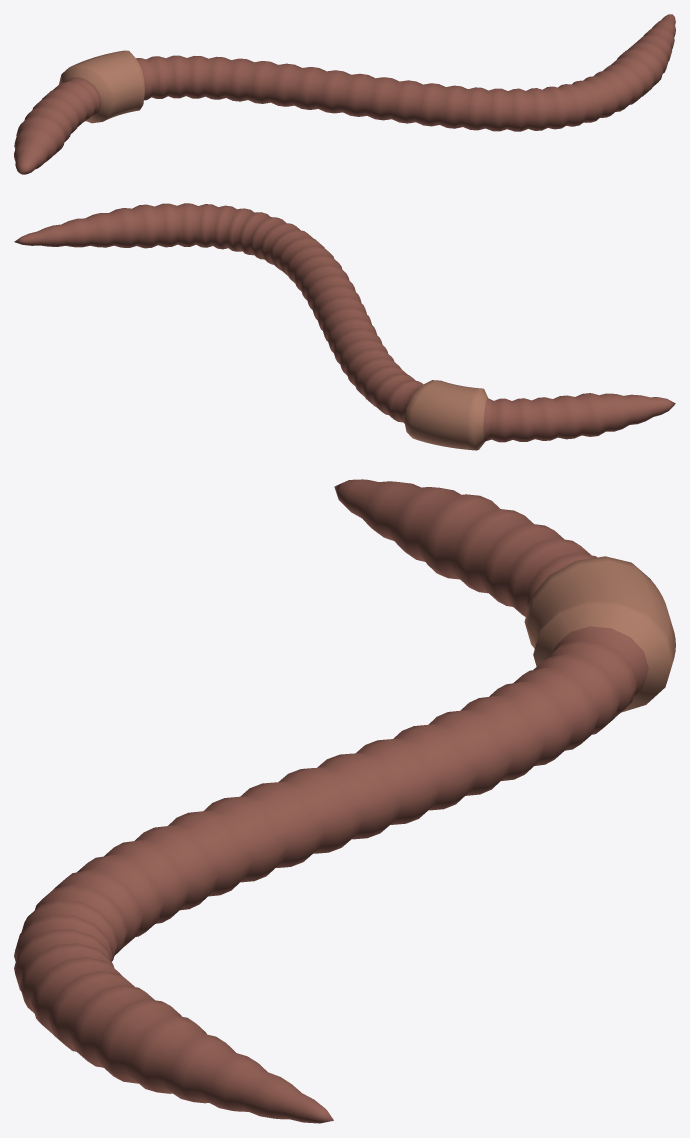
File: NEW_RECOVERY_084_LOD1.glb
The picture shows the model from 3 angles, top to bottom: view 1: azimuth 30°, elevation 25°; view 2: azimuth 150°, elevation 25°; view 3: azimuth 270°, elevation 25°; orthographic projection. The views are drawn at different scales.
Visible parts, largest first — view 1: earthworm; view 2: earthworm; view 3: earthworm.
Boxes of the visible parts, x1,y1,x2,y2 form: earthworm: (14, 14, 675, 174); earthworm: (14, 203, 675, 450); earthworm: (14, 479, 675, 1123).
Bounding box in the file's own units: 4.7 × 0.3659 × 2.07.
